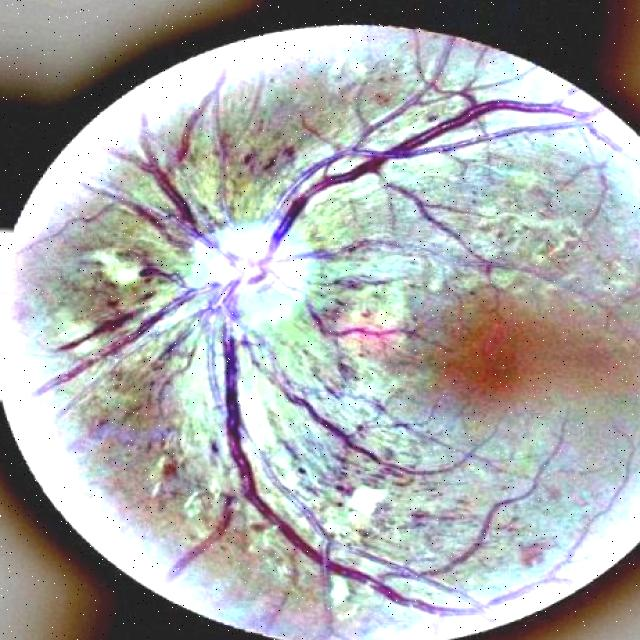Macula: (447, 305, 538, 406)
Nerves: (217, 369, 380, 591), (289, 94, 530, 207), (64, 311, 167, 385), (336, 236, 466, 274), (141, 146, 196, 230)
Optic Disk: (172, 202, 325, 349)
